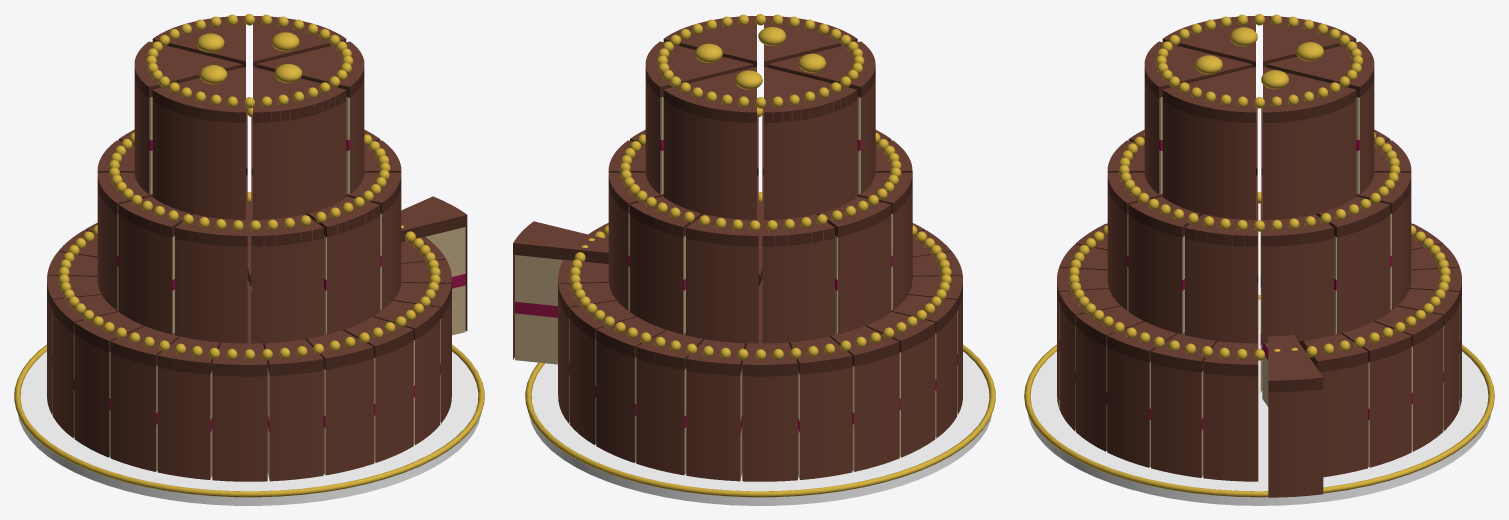
File: torta-30cm-10alto-3p-40porc-chocolate.glb
The picture shows the model from 3 angles, left to right: view 1: azimuth 30°, elevation 25°; view 2: azimuth 150°, elevation 25°; view 3: azimuth 270°, elevation 25°; orthographic projection.
Size of the model in its own units: 0.3815 by 0.3056 by 0.365.
